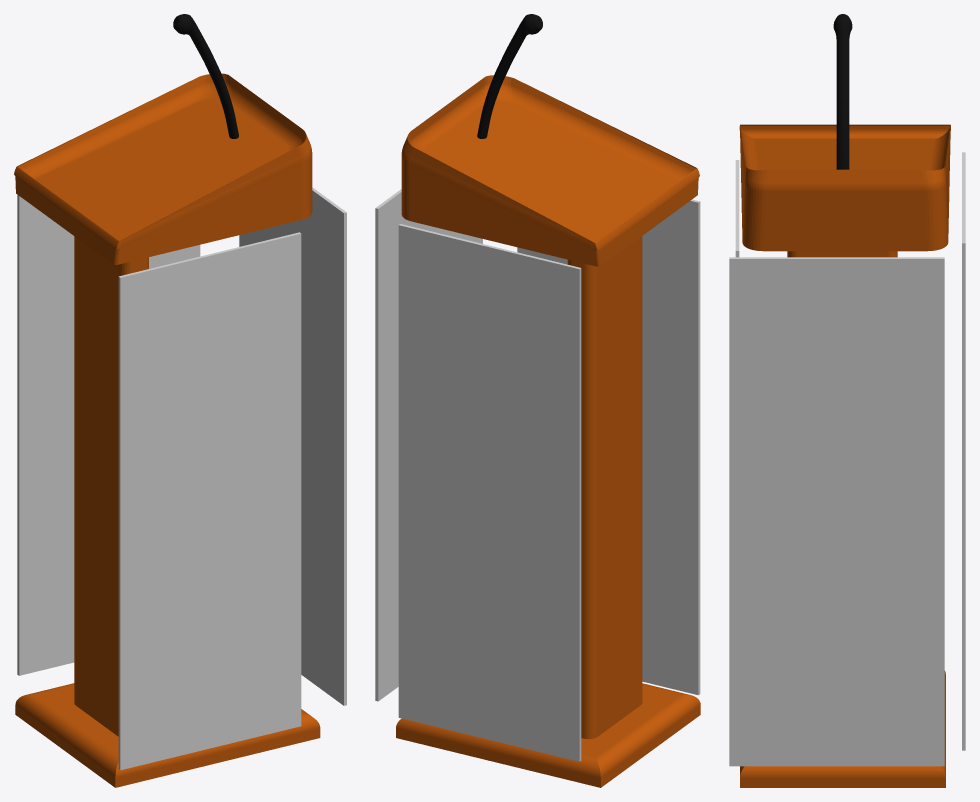
Rendered from atrilAuditorio.glb.
3 views of the same model, side by side, from view 1: azimuth 30°, elevation 25°; view 2: azimuth 150°, elevation 25°; view 3: azimuth 270°, elevation 25° (orthographic). The views are drawn at different scales.
Parts seen in each view (by area): view 1: atril; view 2: atril; view 3: atril.
Part boxes in pixels (box(x1,y1,x2,y2)): atril: box(14, 14, 346, 787); atril: box(375, 14, 700, 787); atril: box(729, 14, 965, 787).
Bounding box in the file's own units: 13.12 × 39.21 × 11.54.
